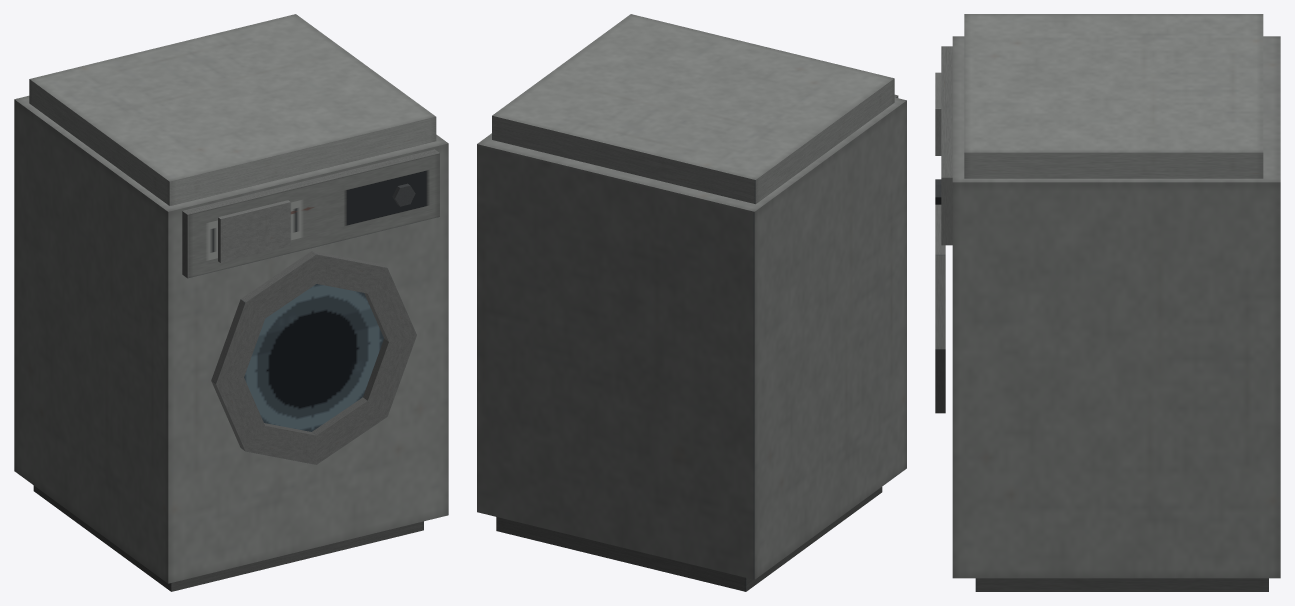
File: washing_machine.glb
The picture shows the model from 3 angles, left to right: view 1: azimuth 30°, elevation 25°; view 2: azimuth 150°, elevation 25°; view 3: azimuth 270°, elevation 25°; orthographic projection. The views are drawn at different scales.
Visible parts, largest first — view 1: core_washing_machine; view 2: core_washing_machine; view 3: core_washing_machine.
Boxes of the visible parts, x1,y1,x2,y2 form: core_washing_machine: (14, 14, 448, 591); core_washing_machine: (477, 14, 906, 591); core_washing_machine: (935, 14, 1280, 591).
Bounding box in the file's own units: 0.6 × 0.85 × 0.6.
Materials: 1 (1 with a texture image).
